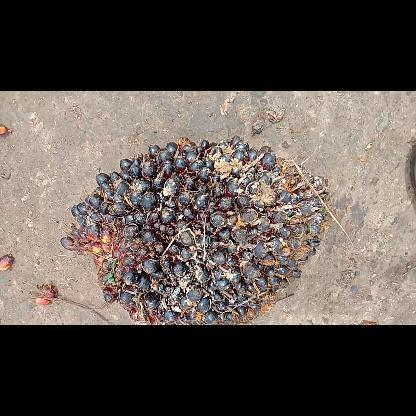TBS mentah: (58, 136, 336, 324)
